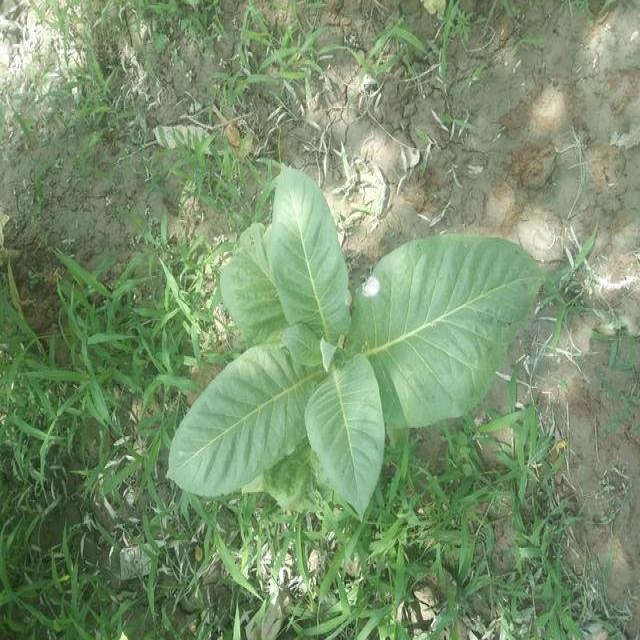crop: (162, 165, 550, 528)
